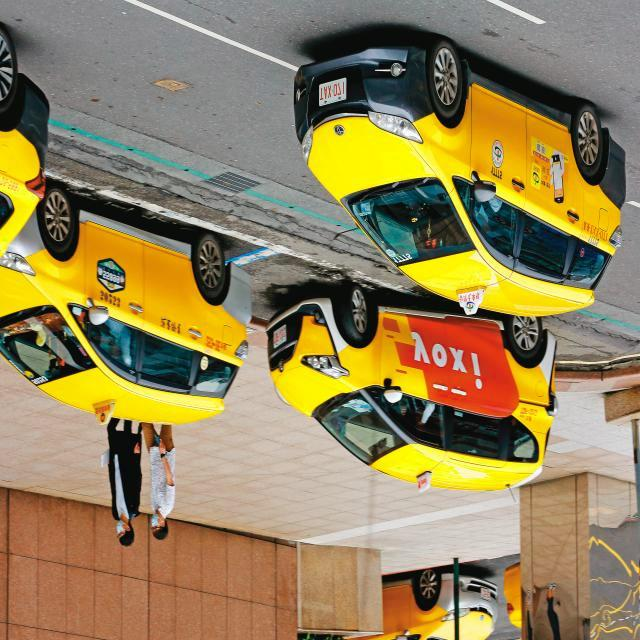taxi: (286, 22, 640, 327), (273, 291, 595, 493), (1, 223, 263, 428), (1, 5, 85, 262)
